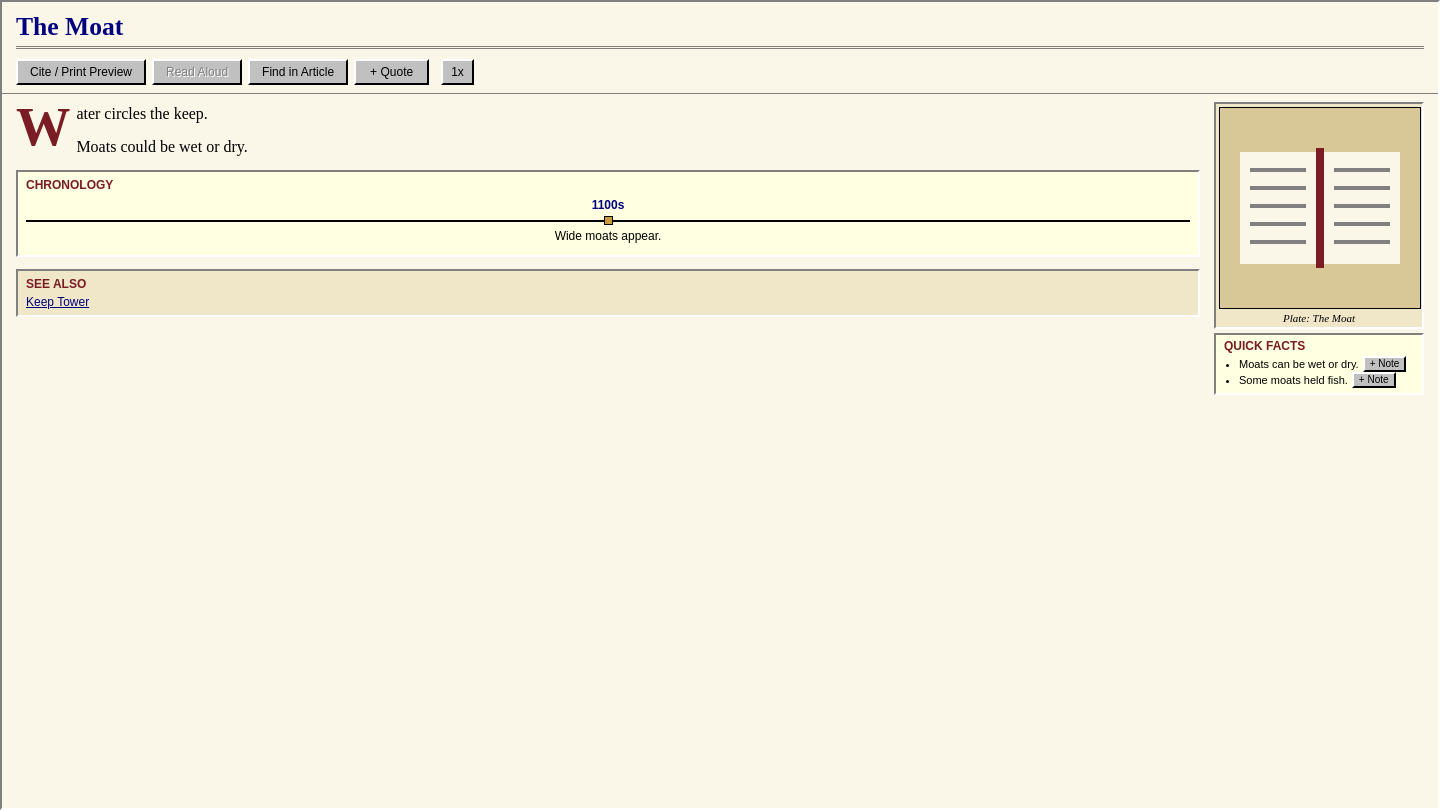
Scenario: ArticleViewer pinned header › puts the title, tool row, and Find bar in the header and everything else in the body
Expected: the heading "The Moat" is shown, [16,12,1424,49]
Expected: the button "Cite / Print Preview" is shown, [16,59,146,85]
Click the button "Find in Article": (298, 72) [248,59,348,85]
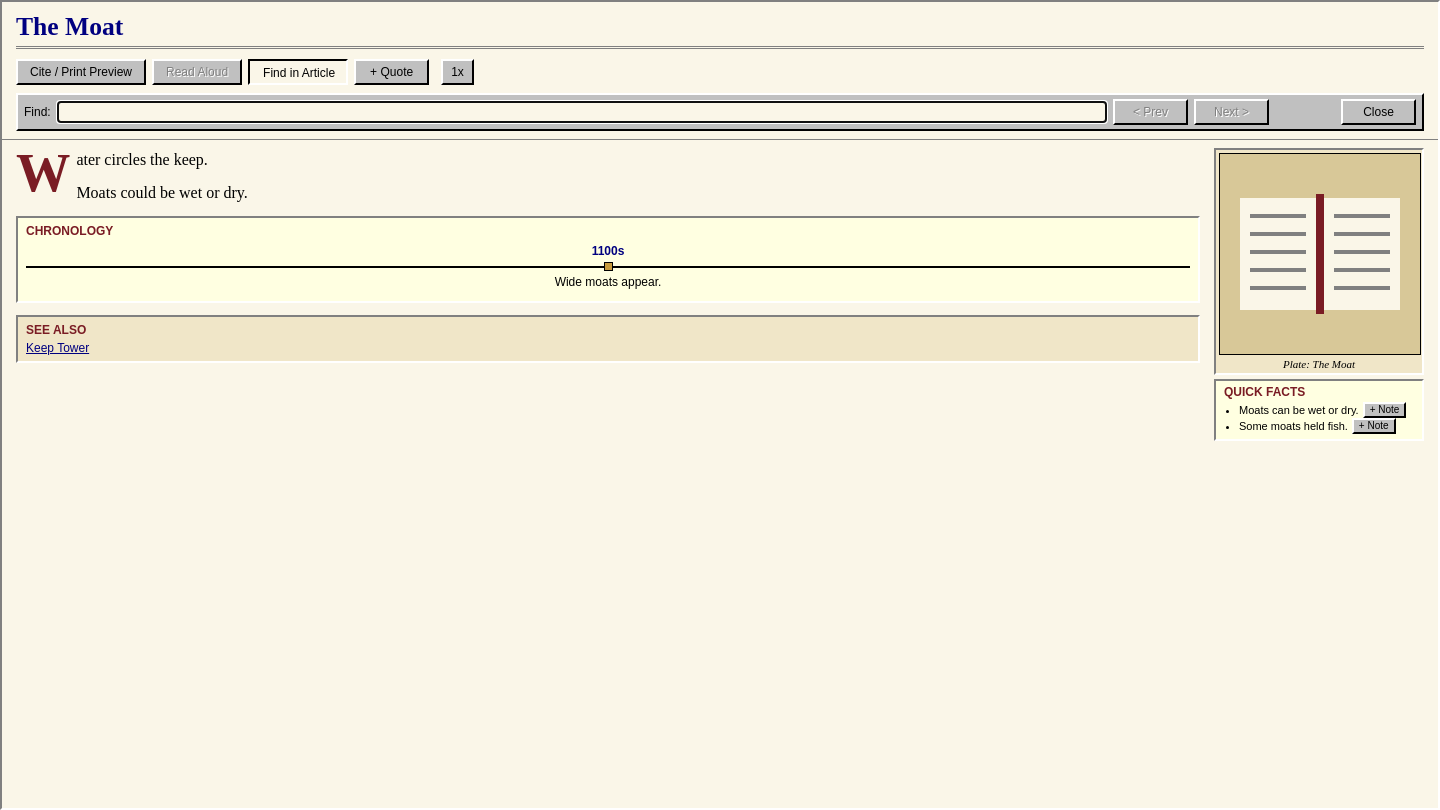
Expected: the element with class "article-aside" is shown, [1214,148,1424,440]
Expected: the element named "Find in article" is shown, [16,93,1424,131]
